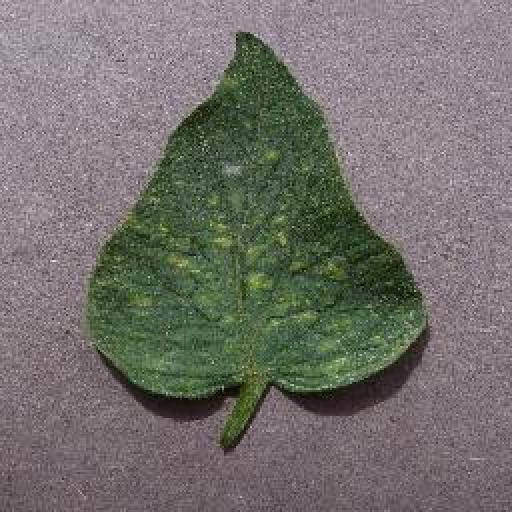disease_tomato: (92, 29, 428, 399)
